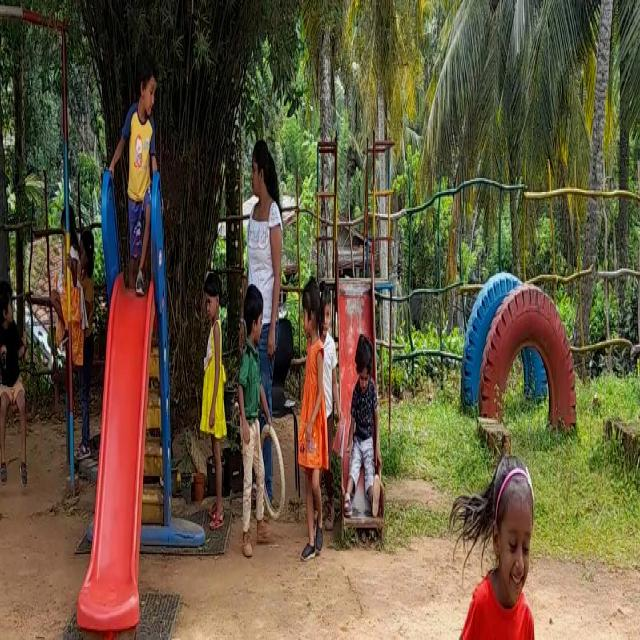adult: (248, 126, 289, 486)
child: (446, 449, 562, 640), (116, 61, 160, 295), (228, 290, 264, 560), (345, 306, 385, 524), (299, 280, 329, 540), (197, 262, 224, 532), (0, 247, 30, 479)
